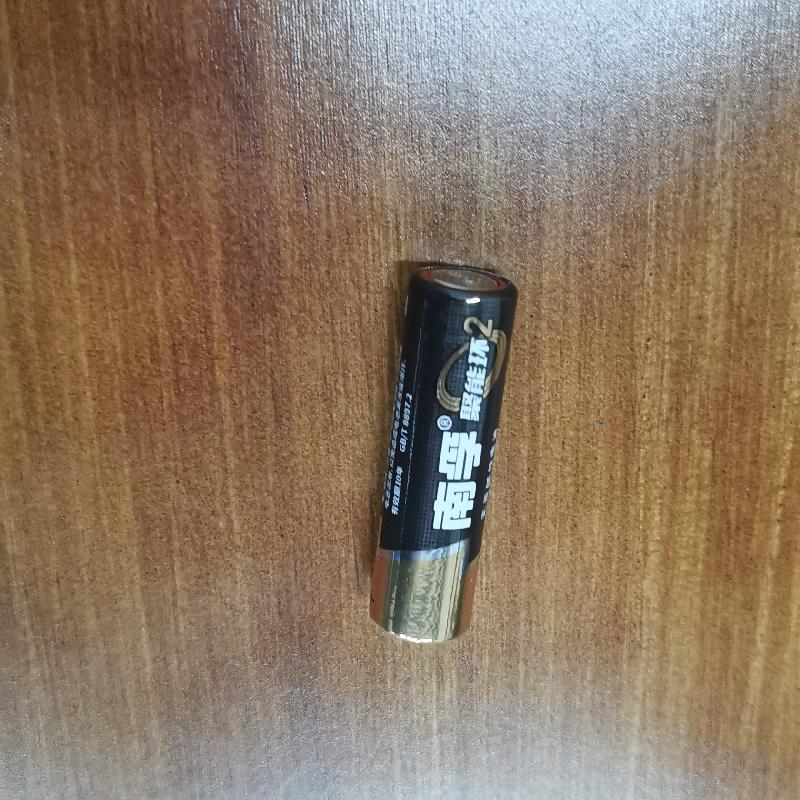battery: (357, 246, 520, 647)
